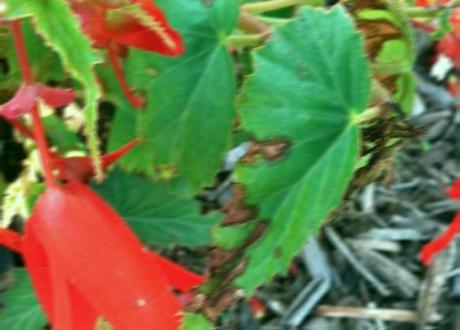Tomato leaf bacterial spot: (198, 15, 382, 314)
